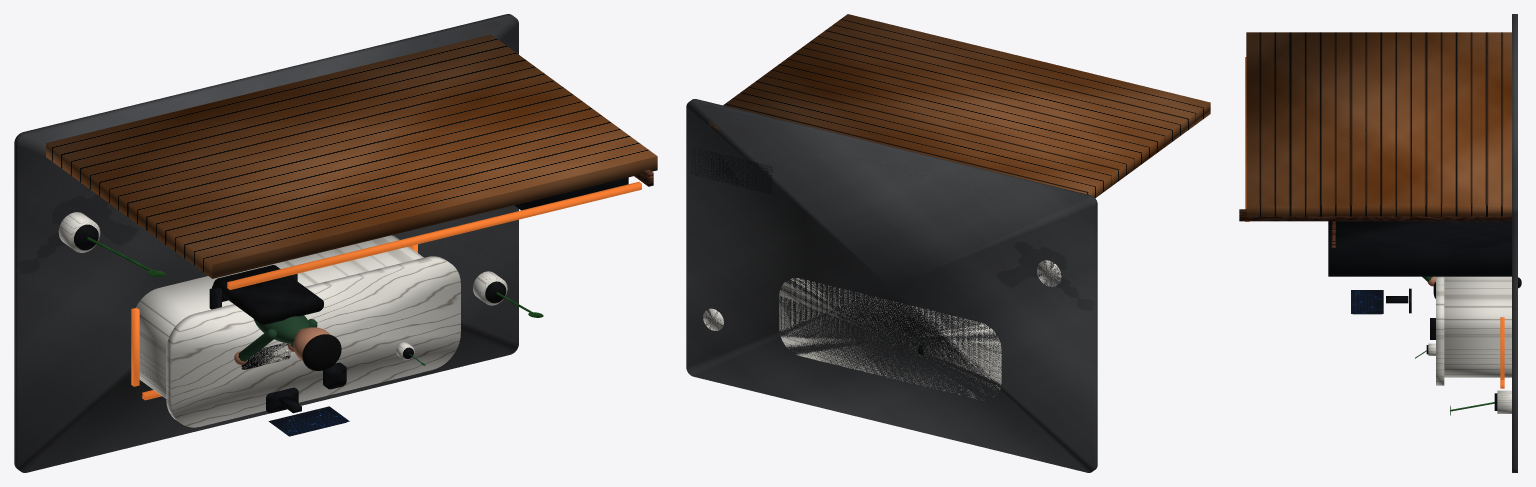
File: HERO_RECEPTION_LOBBY_V4_001.glb
The picture shows the model from 3 angles, left to right: view 1: azimuth 30°, elevation 25°; view 2: azimuth 150°, elevation 25°; view 3: azimuth 270°, elevation 25°; orthographic projection. The views are drawn at different scales.
Parts seen in each view (by area): view 1: back_wall_base, reception_floor, curved_reception_desk_top, curved_reception_desk_base, wall_top_warm_led, reception_chair_back, monitor_panel, receptionist_hair, shelf_frame, lobby_large_plant_l_pot, receptionist_torso, desk_under_glow_l; view 2: reception_floor, back_wall_base, curved_reception_desk_base, shelf_frame; view 3: back_wall_base, shelf_frame, curved_reception_desk_base, reception_floor, individual_wood_slat, curved_reception_desk_top, monitor_panel, lobby_large_plant_r_pot, desk_under_glow_r, wall_top_warm_led.
Boxes of the visible parts, box(x1,y1,x2,y2) form: back_wall_base: box(46, 34, 657, 278); reception_floor: box(14, 14, 518, 472); curved_reception_desk_top: box(166, 256, 460, 427); curved_reception_desk_base: box(136, 235, 423, 398); wall_top_warm_led: box(227, 182, 641, 289); reception_chair_back: box(213, 265, 323, 324); monitor_panel: box(268, 406, 349, 435); receptionist_hair: box(302, 334, 341, 370); shelf_frame: box(514, 177, 628, 210); lobby_large_plant_l_pot: box(58, 212, 100, 252); receptionist_torso: box(254, 315, 310, 343); desk_under_glow_l: box(131, 307, 139, 386); reception_floor: box(686, 99, 1097, 472); back_wall_base: box(709, 14, 1210, 214); curved_reception_desk_base: box(779, 278, 1001, 399); shelf_frame: box(691, 148, 772, 193); back_wall_base: box(1246, 32, 1511, 216); shelf_frame: box(1328, 221, 1511, 276); curved_reception_desk_base: box(1444, 276, 1511, 377); reception_floor: box(1512, 14, 1517, 472); individual_wood_slat: box(1239, 209, 1511, 221); curved_reception_desk_top: box(1436, 276, 1444, 385); monitor_panel: box(1351, 290, 1383, 313); lobby_large_plant_r_pot: box(1497, 390, 1511, 413); desk_under_glow_r: box(1500, 317, 1504, 379); wall_top_warm_led: box(1245, 57, 1249, 221).
Bounding box in the file's own units: 4.5 × 2.9 × 2.76.
Materials: 17 (17 with a texture image).
